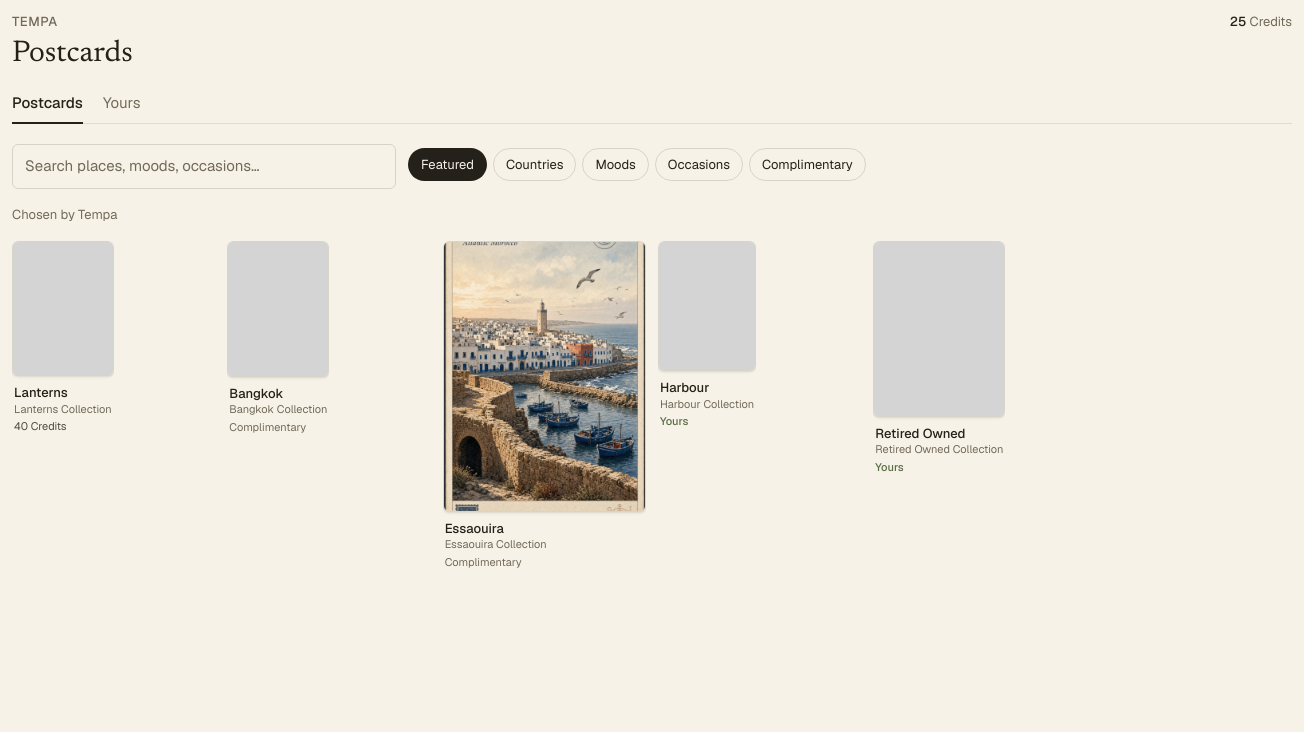
Test: tabs, Gifts and Yours › Yours separates Postcards you can SEND from Keepsakes you RECEIVED
This screenshot has width=1304, height=732.
Click the tab "Yours".
click(122, 108)  # box [103,92,140,124]
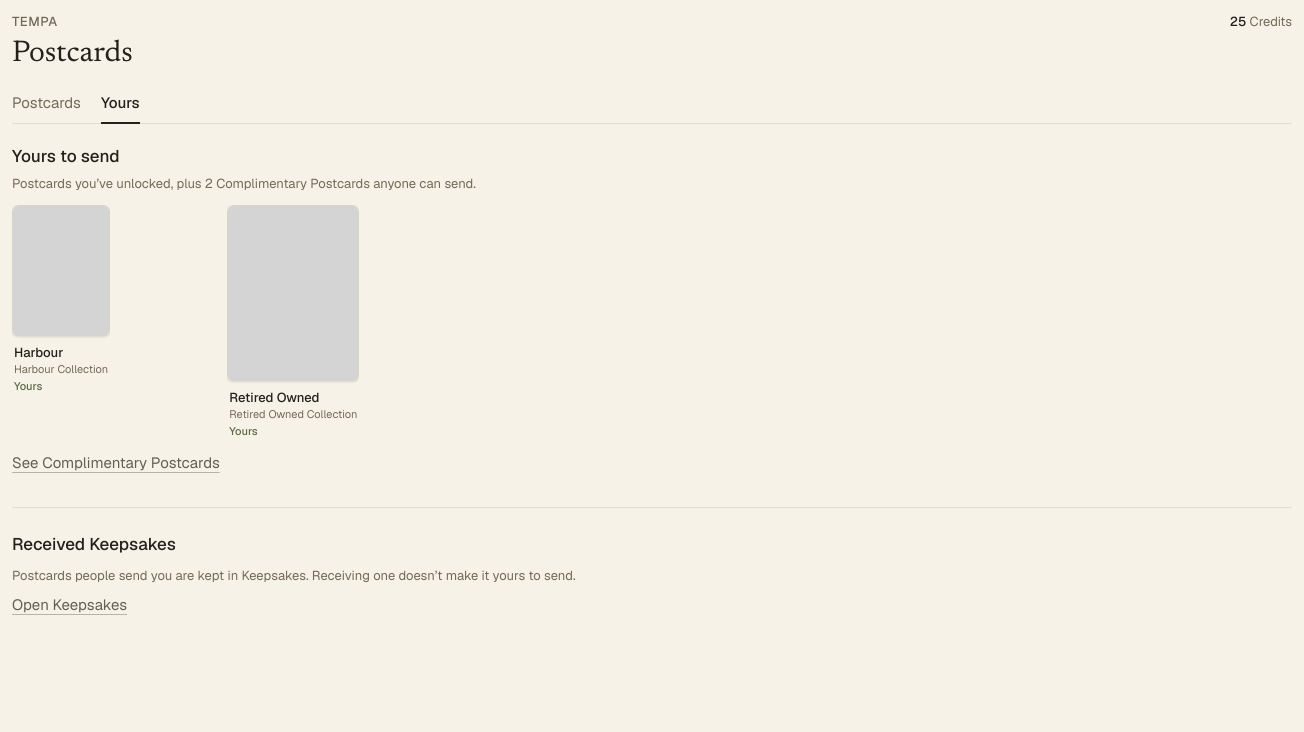
Expected: the text "Yours to send" is shown, [12,145,120,167]
Expected: the text "Received Keepsakes" is shown, [12,533,176,555]
Expected: the text "Receiving one doesn’t make it yours to send." is shown, [12,567,576,584]
